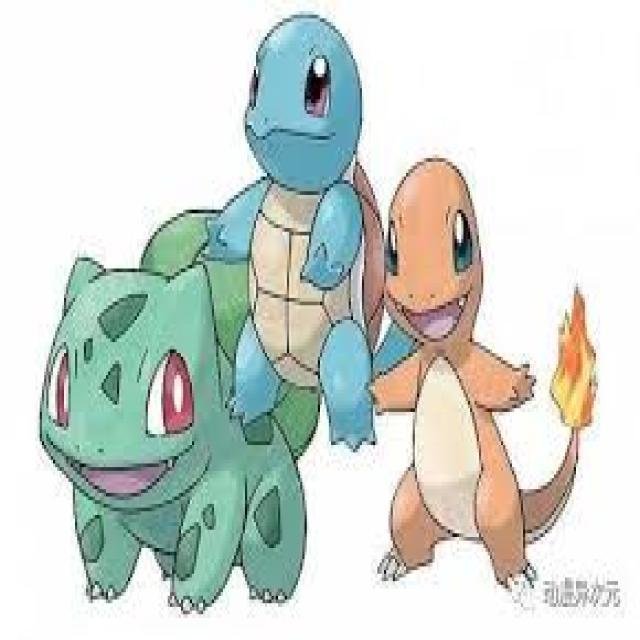Bulbasaur: (51, 261, 282, 597)
Charmander: (382, 157, 535, 583)
Squirtle: (242, 12, 383, 442)
